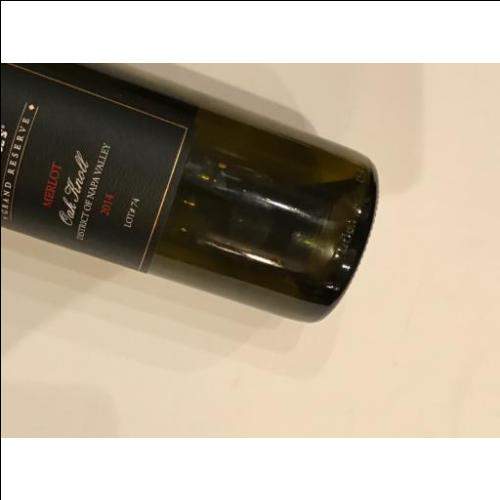glass: (1, 65, 377, 323)
